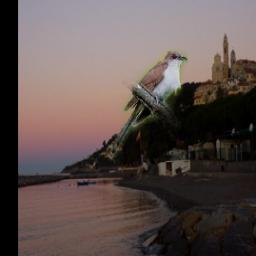Cuckoo: (109, 50, 187, 159)
